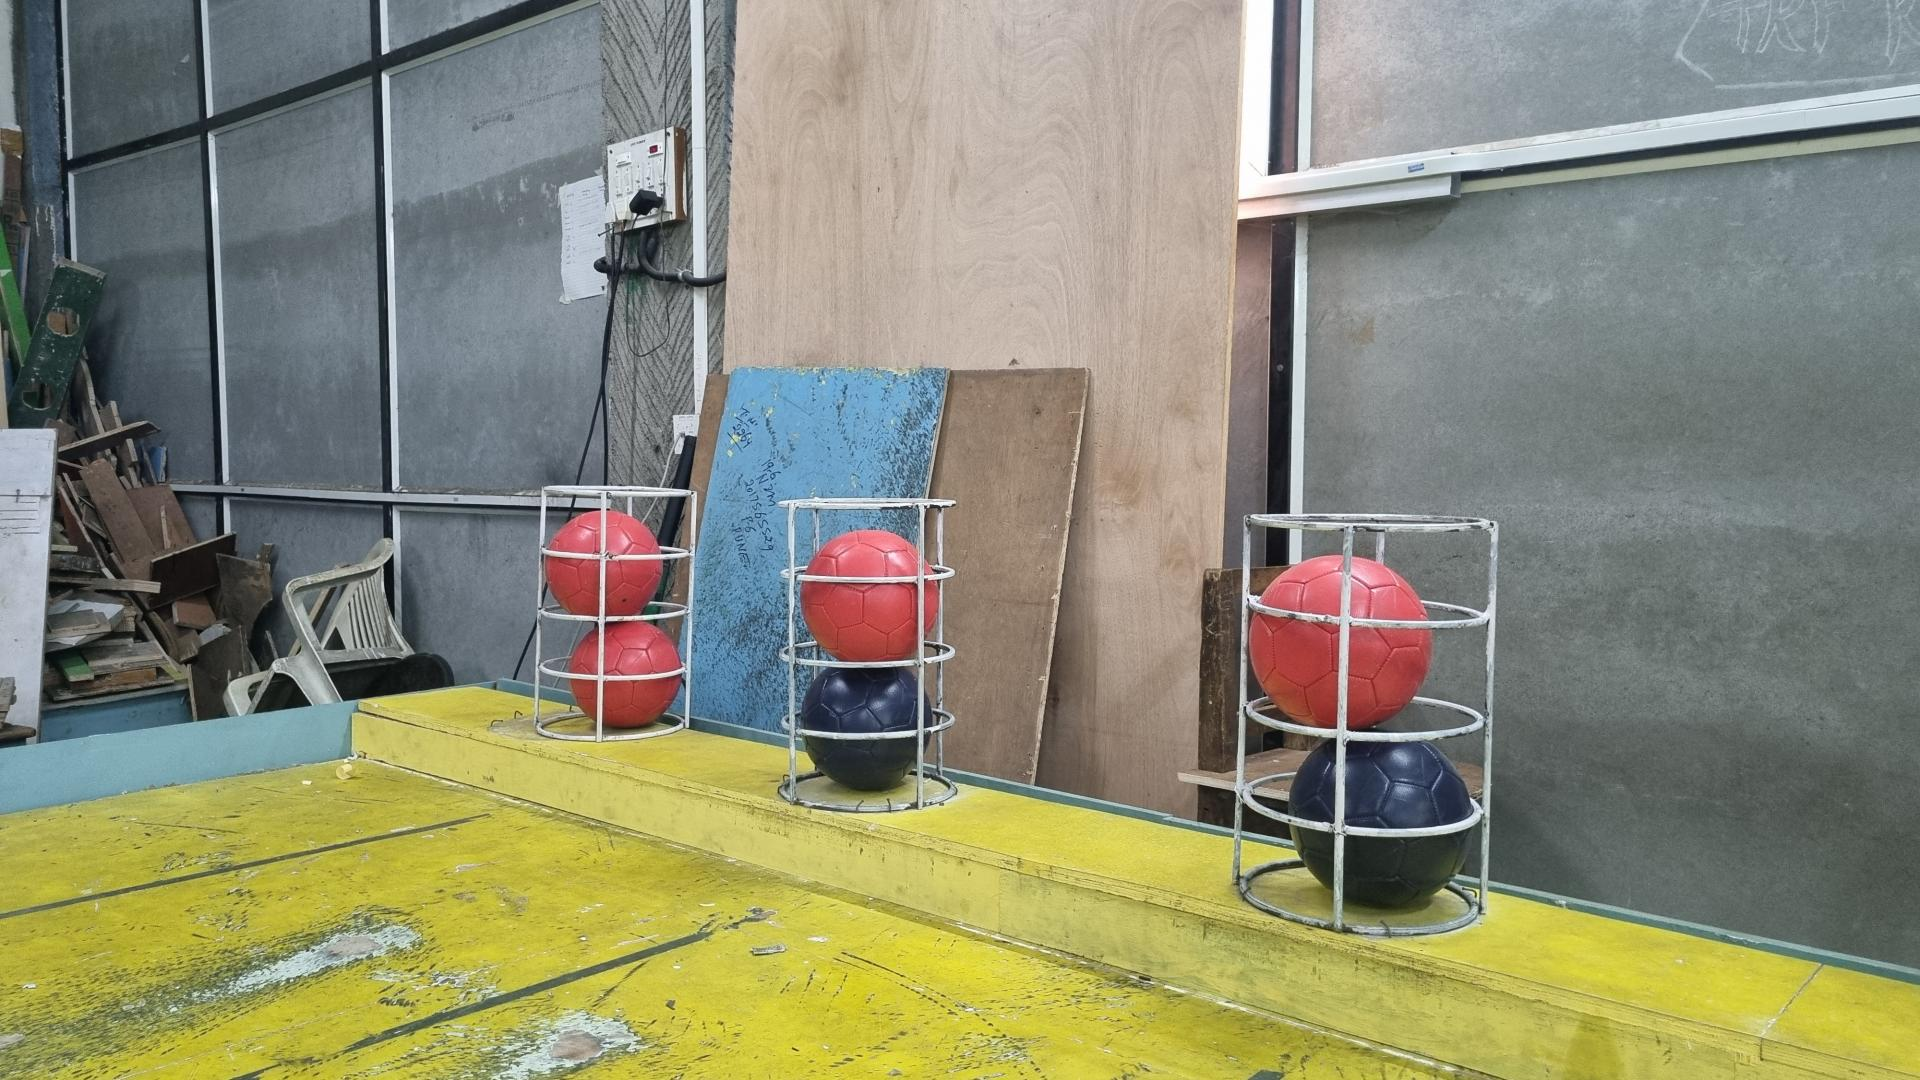dhoka: (1288, 738, 1473, 910), (799, 666, 934, 794)
laale: (1249, 554, 1432, 729), (798, 529, 940, 663), (545, 510, 665, 618), (568, 622, 682, 731)
